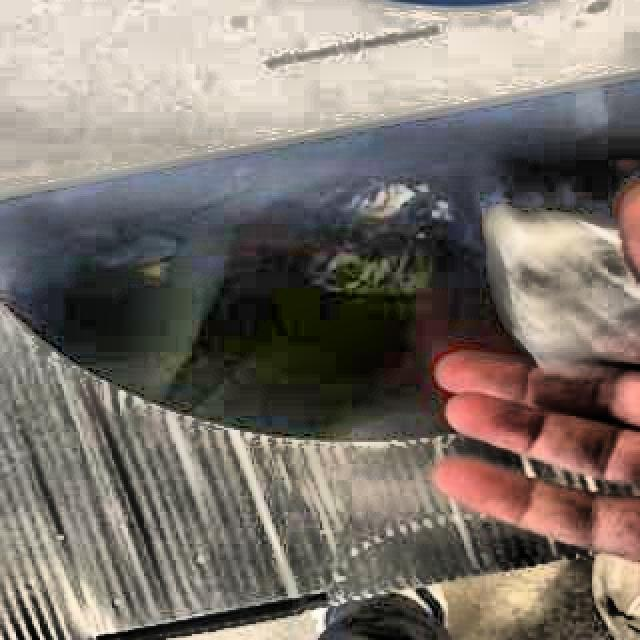metal: (485, 206, 640, 373)
